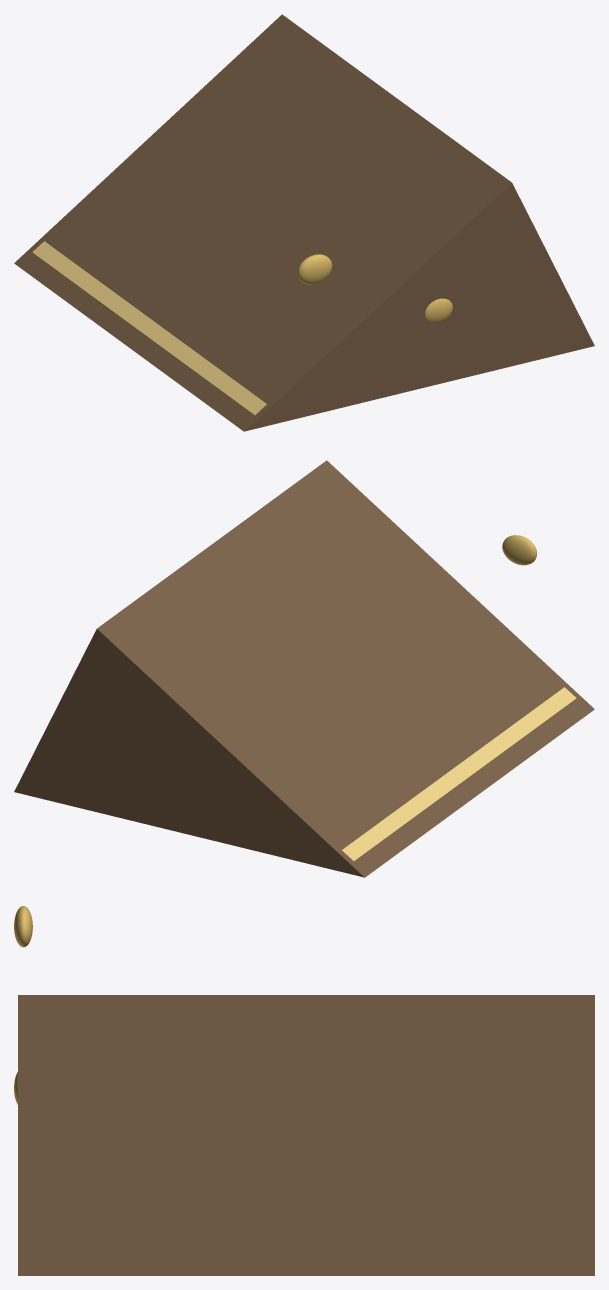
The model's file is wp-part-de-fromage.glb.
3 views of the same model, one above another, from view 1: azimuth 30°, elevation 25°; view 2: azimuth 150°, elevation 25°; view 3: azimuth 270°, elevation 25° (orthographic). The views are drawn at different scales.
Visible parts, largest first — view 1: wp-part-de-fromage; view 2: wp-part-de-fromage; view 3: wp-part-de-fromage.
Part boxes in pixels (bbox=[...]): wp-part-de-fromage: bbox=[14, 14, 594, 431]; wp-part-de-fromage: bbox=[14, 460, 594, 877]; wp-part-de-fromage: bbox=[14, 906, 594, 1275].
Bounding box in the file's own units: 0.14 × 0.07 × 0.16.
